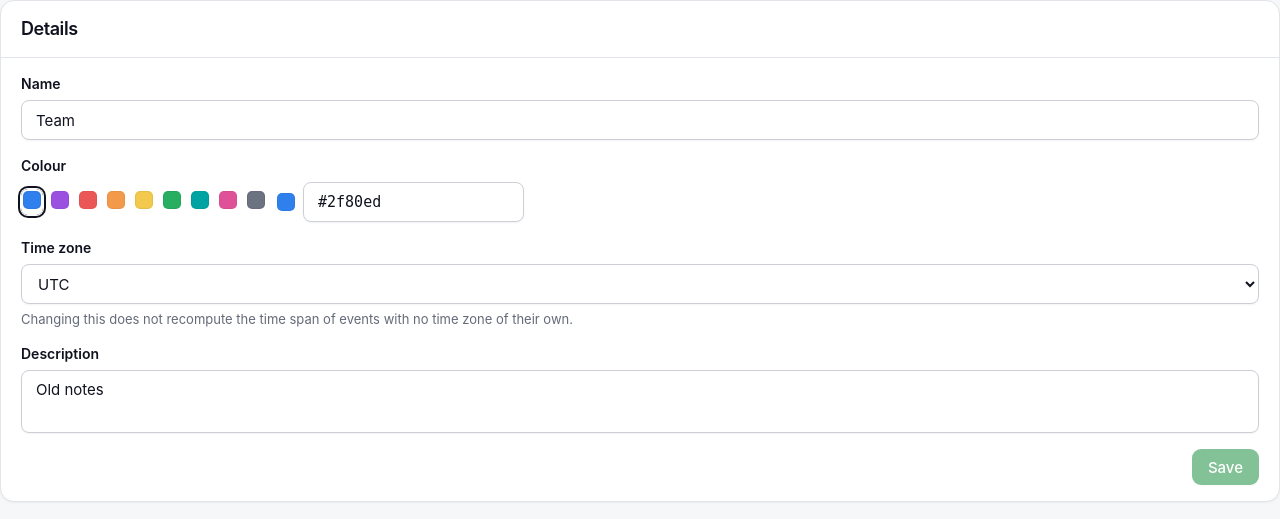
sends only the changed fields, with If-Match
The image size is (1280, 519).
Replace the text in the field labelled "Name" with "Team B": (640, 120) [21,100,1259,140]
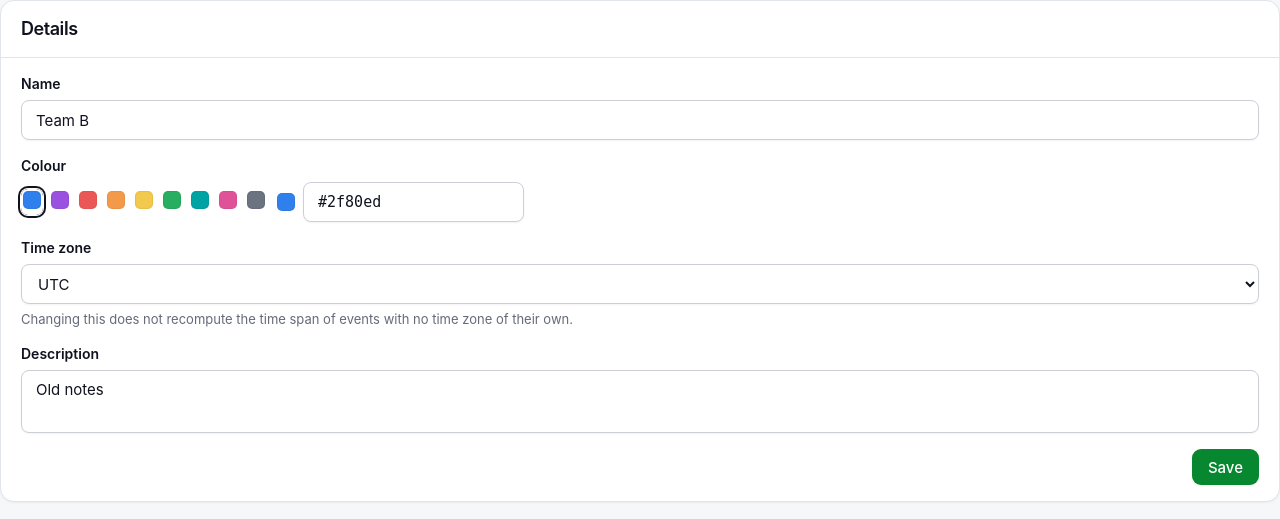
Click the button "Save": (1225, 467) [1192,449,1259,485]
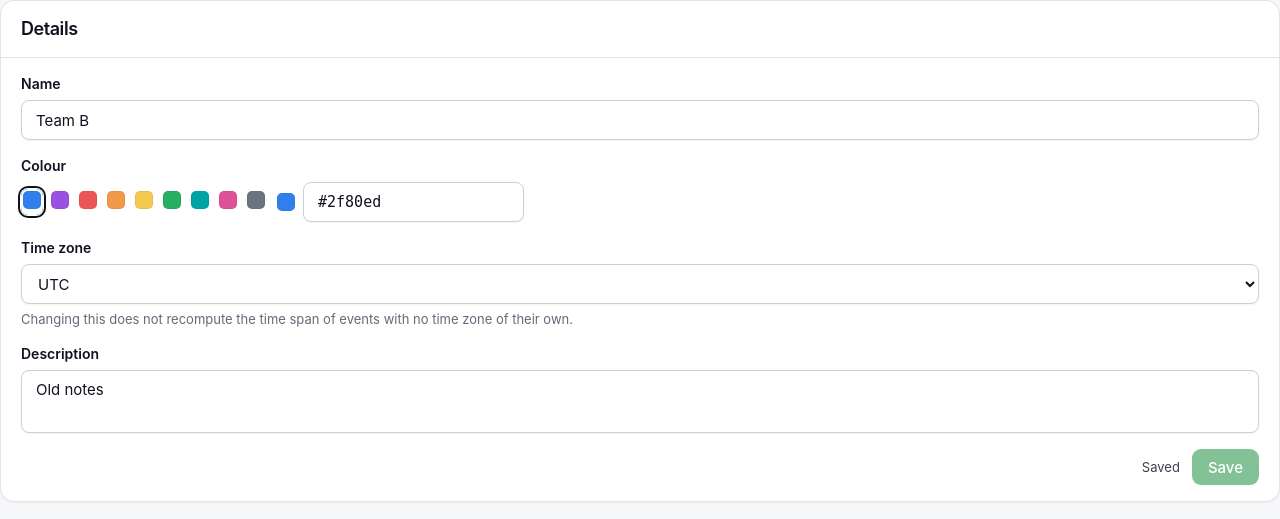
Now the text "Saved" is shown, box [1142,458,1180,476]
